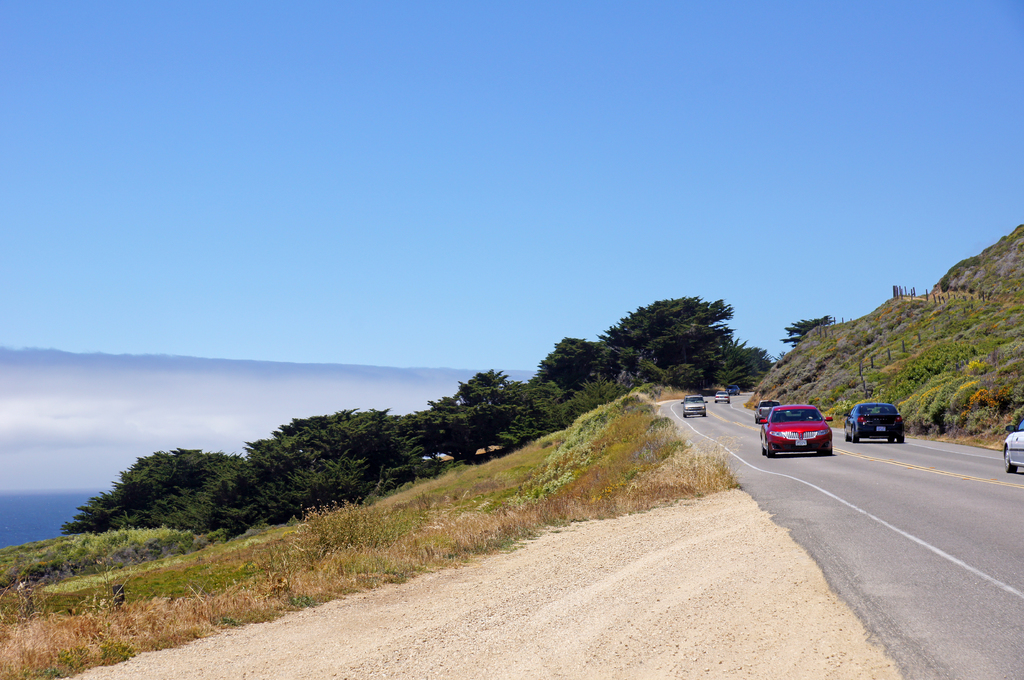Car: (757, 404, 832, 458), (843, 397, 904, 442), (1003, 415, 1023, 474), (755, 399, 781, 425), (679, 395, 708, 417), (714, 390, 728, 404), (727, 384, 741, 395)
